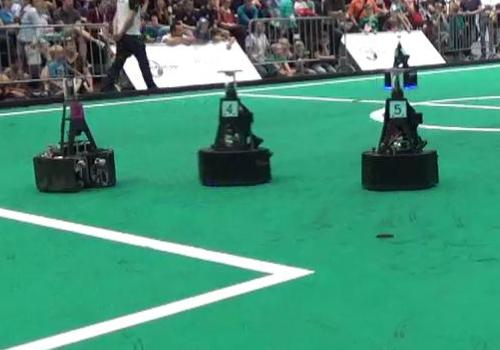robot: (28, 69, 123, 195), (359, 67, 441, 192), (195, 68, 275, 190)
